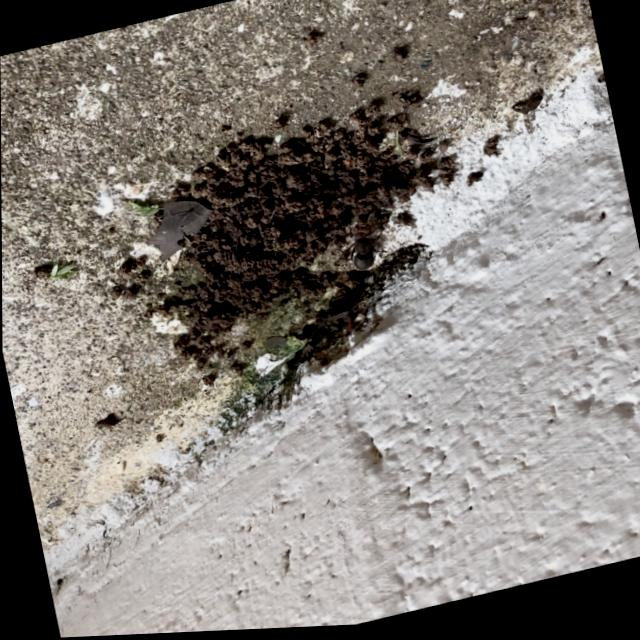Alive-Female-Dealate: (331, 218, 391, 280)
